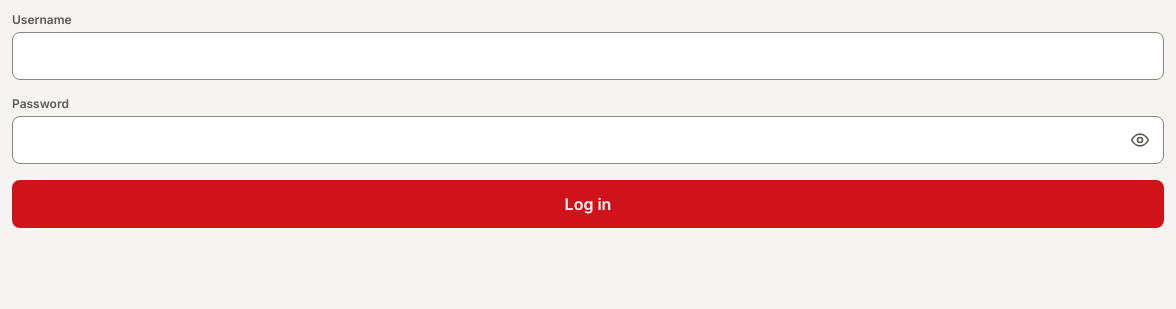
Test: LoginForm › server errors › shows the server's message for a wrong username or password
The width and height of the screenshot is (1176, 309).
Step 1. Type "jonas.becker" into the field labelled "Username" → (588, 56), box [12,32,1164,80]
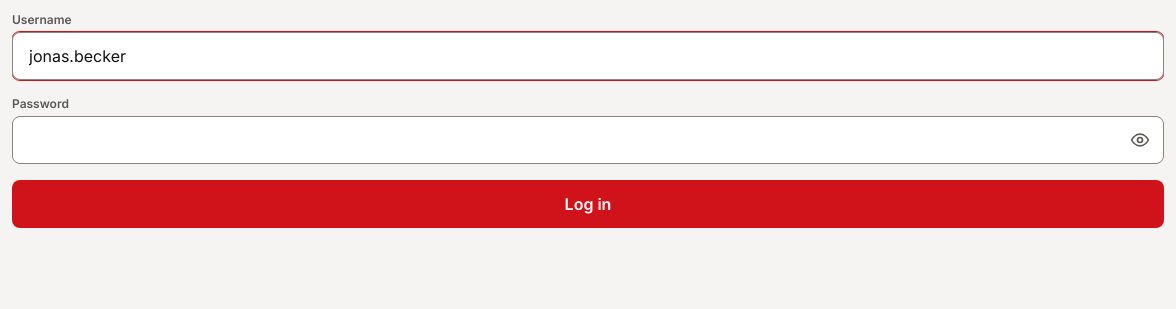
Step 2. Type "13031998" into the password field labelled "Password" → (588, 140), box [12,116,1164,164]
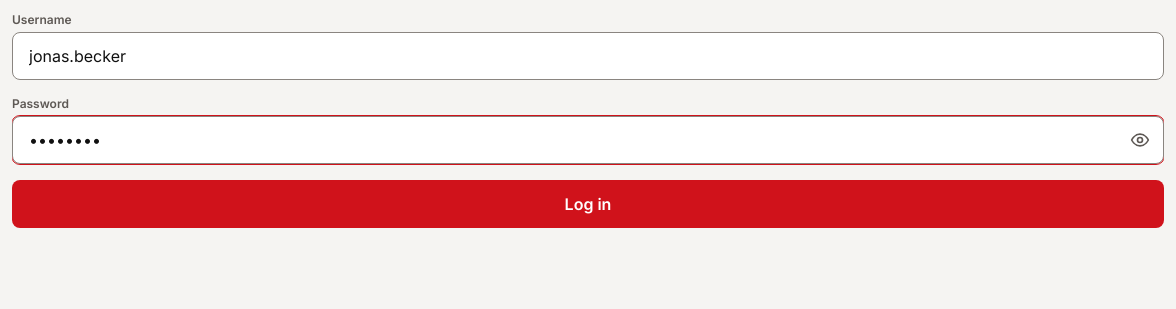
Step 3. Click the button "Log in" → (588, 204), box [12,180,1164,228]
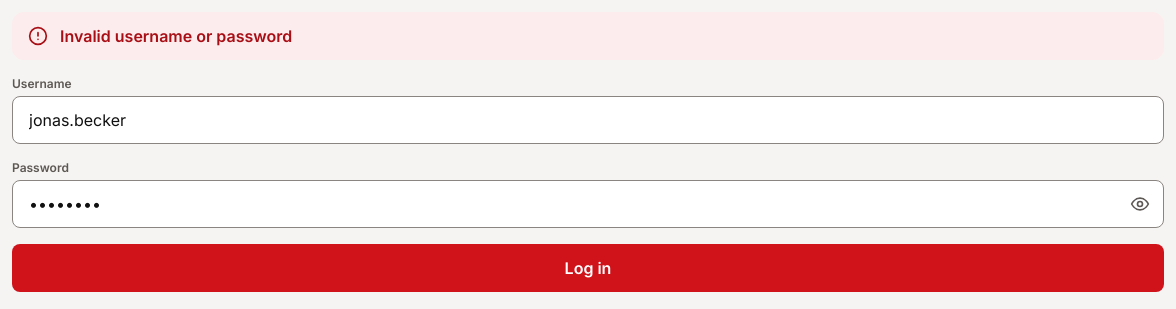
Result: the message reads "Invalid username or password" at [60,26,292,46]
